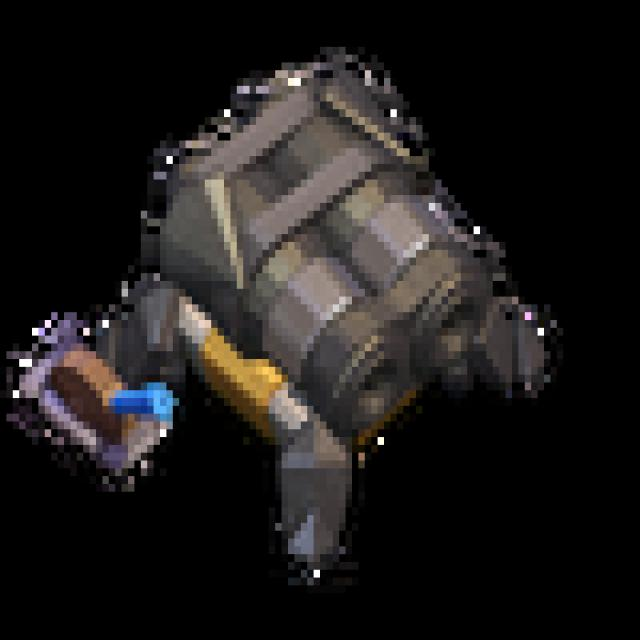cannon: (14, 50, 566, 595)
